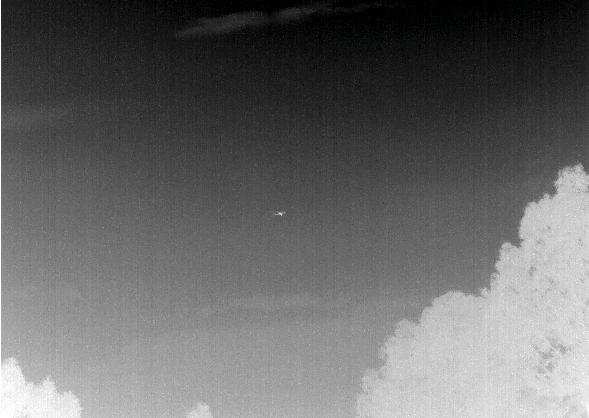dim target: (272, 210, 287, 217)
